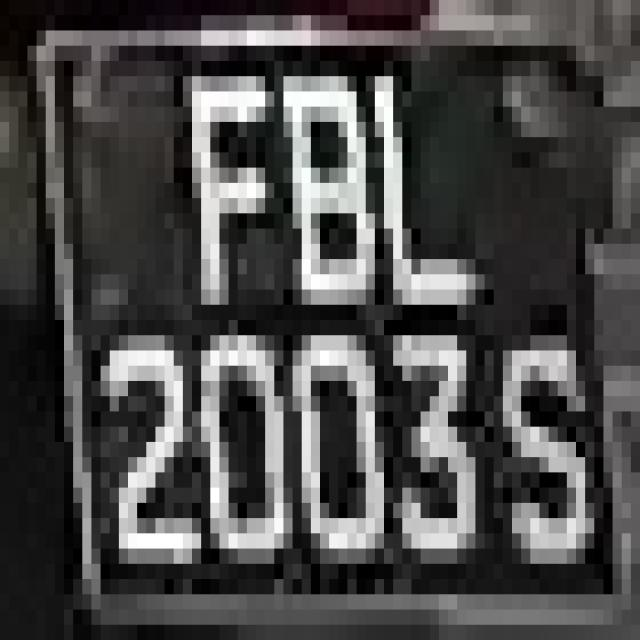0: (247, 305, 402, 579), (174, 320, 311, 594)
2: (101, 320, 256, 610)
3: (356, 335, 494, 625)
B: (265, 46, 393, 350)
F: (146, 76, 293, 320)
L: (356, 61, 484, 335)
S: (494, 350, 631, 610)
